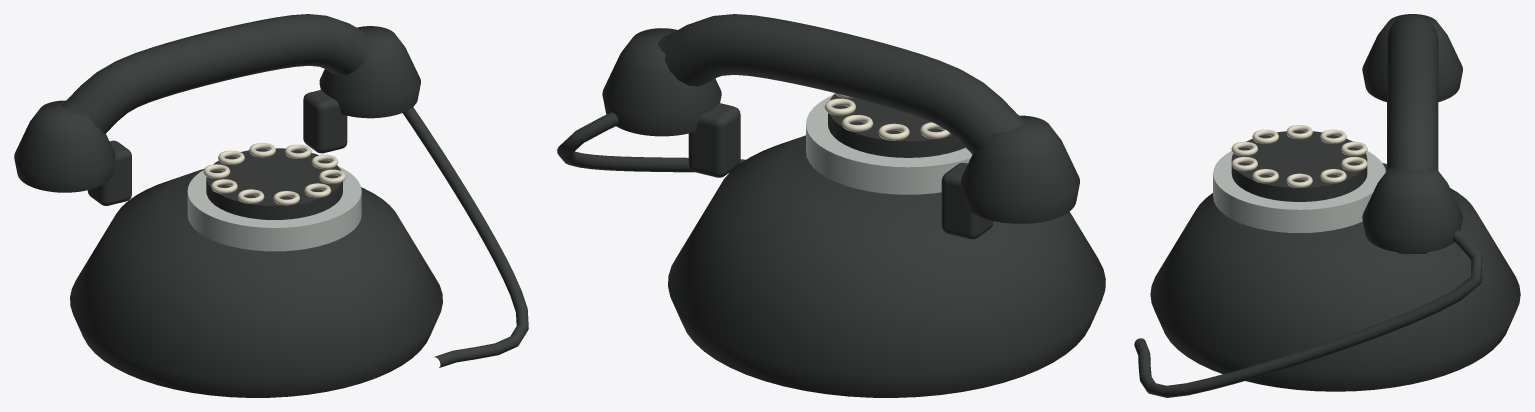
File: abandoned-telephone-exchange-rotary-desk-telephone-cdee2381__31990.glb
3 renders of one model, left to right at view 1: azimuth 30°, elevation 25°; view 2: azimuth 150°, elevation 25°; view 3: azimuth 270°, elevation 25°, orthographic. The views are drawn at different scales.
Visible parts, largest first — view 1: rotary-desk-telephone; view 2: rotary-desk-telephone; view 3: rotary-desk-telephone.
Boxes of the visible parts, x1=… form: rotary-desk-telephone: x1=14, y1=14, x2=528, y2=397; rotary-desk-telephone: x1=557, y1=14, x2=1105, y2=397; rotary-desk-telephone: x1=1134, y1=14, x2=1520, y2=397.
Size of the model in its own units: 0.4594 by 0.2794 by 0.3757.
